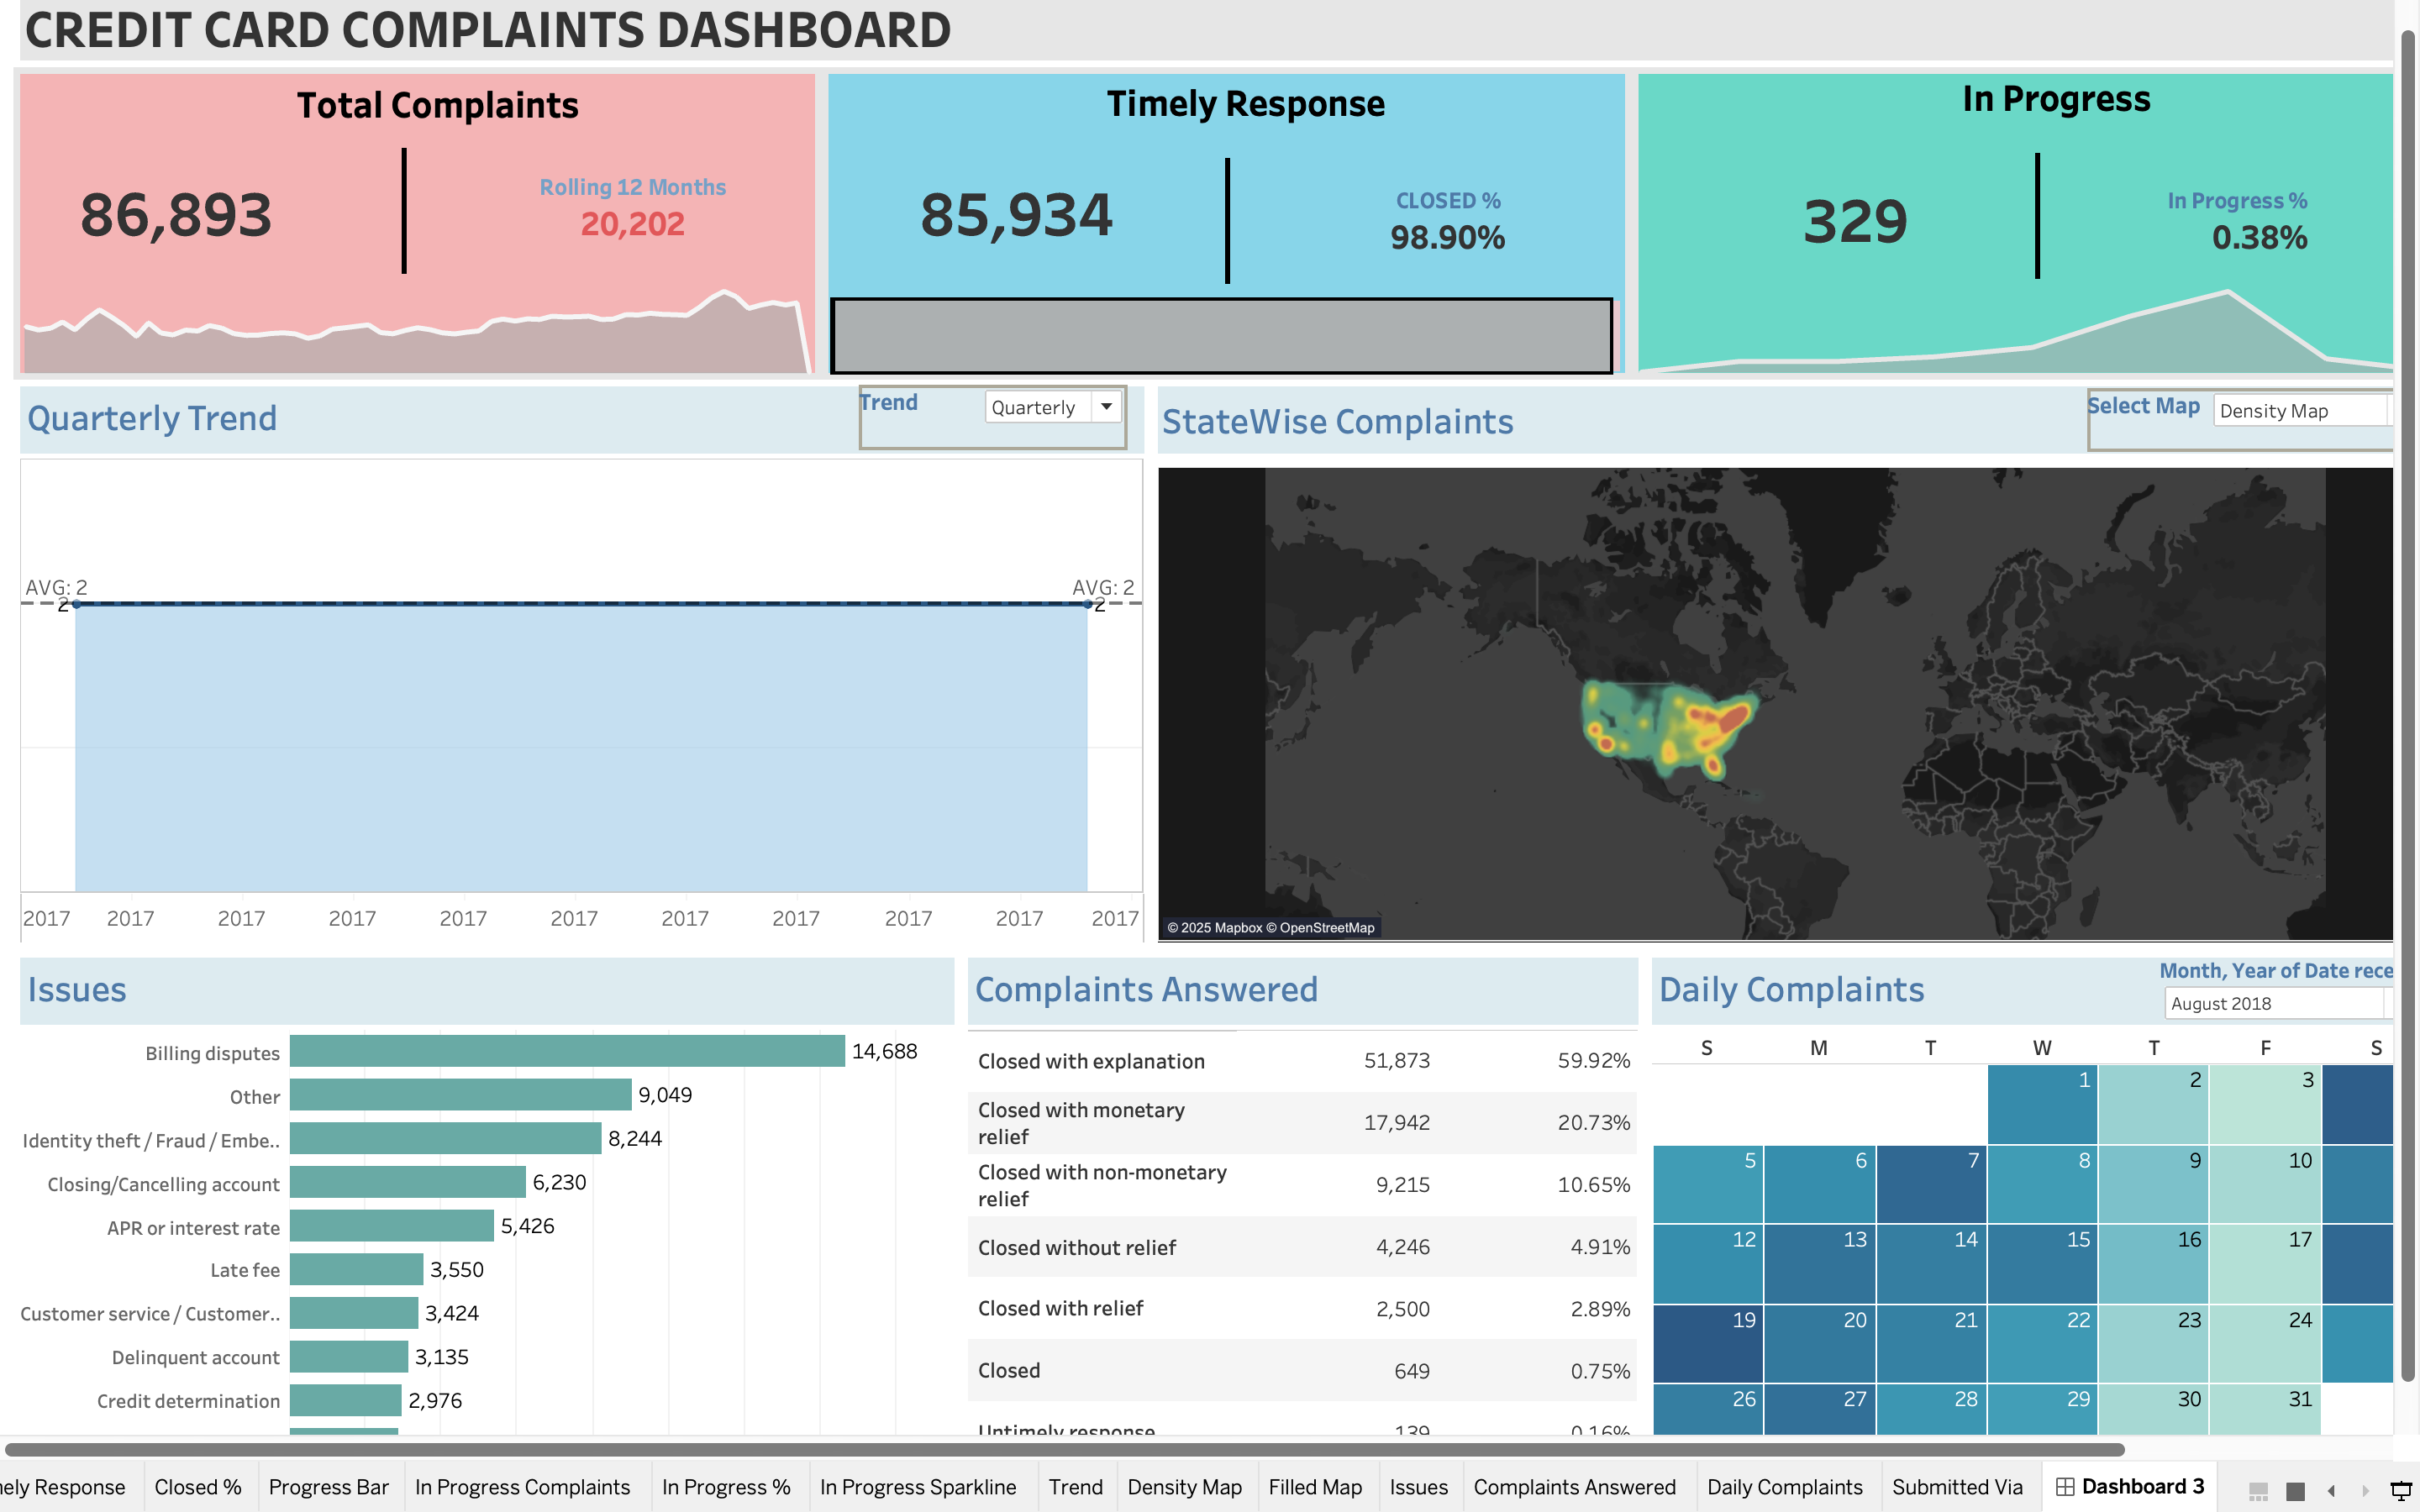

This screenshot's page, from the dashboard's own definition file:
{"tool":"tableau","page":{"name":"Dashboard 3","canvas":[1600,900],"ordinal":0},"visuals":[{"type":"title","box":[8,8,1584,48]},{"type":"blank","box":[8,56,481,186.3]},{"type":"blank","box":[489,56,481.9,186.3]},{"type":"blank","box":[970.9,56,481.9,186.3]},{"type":"text","box":[1452.9,56,139.1,26]},{"type":"text","box":[1137,59,174,30]},{"type":"text","box":[655,62,174,30]},{"type":"text","box":[174,63,174,30]},{"type":"blank","box":[1452.9,82,139.1,143]},{"type":"filter","title":"Trend","param":"[federated.0zmxp2f0zmb8yj13tfkui1nm52eq].[yr:Date received:ok]","box":[1450,88,143,42]},{"type":"worksheet","title":"Rolling 12 Month Complaints","mark":"Automatic","box":[300,103,153,74]},{"type":"blank","box":[239,104,3,75]},{"type":"blank","box":[1211,107,3,75]},{"type":"blank","box":[729,110,3,75]},{"type":"worksheet","title":"Closed %","mark":"Automatic","box":[785,111,153,74]},{"type":"worksheet","title":"In Progress %","mark":"Automatic","box":[1224,111,153,74]},{"type":"worksheet","title":"Total Complaints","mark":"Automatic","box":[26,121,158,42]},{"type":"worksheet","title":"Timely Response","mark":"Automatic","box":[526,121,158,42]},{"type":"worksheet","title":"In Progress Complaints","mark":"Automatic","box":[982,125,158,42]},{"type":"filter","title":"Trend","param":"[federated.0zmxp2f0zmb8yj13tfkui1nm52eq].[none:Company:nk]","box":[1450,144,141,43]},{"type":"worksheet","title":"In Progress Sparkline","mark":"Automatic","rows":["Calculation_1723189811968696323","Calculation_1723189811968696323"],"cols":["Date received"],"box":[951,185,516,56]},{"type":"worksheet","title":"Progress Bar","mark":"Bar","cols":["Calculation_1723189811960180738","Calculation_1403152760985337857"],"box":[494,188,493,56]},{"type":"filter","title":"Trend","param":"[federated.0zmxp2f0zmb8yj13tfkui1nm52eq].[none:State:nk]","box":[1451,205,140,40]},{"type":"blank","box":[1452.9,225,139.1,667]},{"type":"worksheet","title":"Trend","mark":"Automatic","rows":["Number of Records","Number of Records"],"cols":["Calculation_3687603679454642177"],"box":[8,242.3,677,339.7]},{"type":"text","box":[685,242.3,767.9,48]},{"type":"parameter","param":"[Parameters].[Parameter 2]","box":[511,245,160,39]},{"type":"parameter","param":"[Parameters].[Parameter 3]","box":[1242,247,200,38]},{"type":"worksheet","title":"Density Map","mark":"Heatmap","box":[685,290.3,767.9,290.7]},{"type":"worksheet","title":"Filled Map","mark":"Automatic","box":[685,581,767.9,1]},{"type":"worksheet","title":"Issues","mark":"Automatic","rows":["Issue"],"cols":["Number of Records"],"box":[8,582,563.9,310]},{"type":"worksheet","title":"Complaints Answered","mark":"Automatic","rows":["Company response to consumer"],"box":[571.9,582,407,310]},{"type":"worksheet","title":"Daily Complaints","mark":"Square","rows":["Date received"],"cols":["Date received"],"box":[978.9,582,474,310]},{"type":"filter","title":"Daily Complaints","param":"[federated.0zmxp2f0zmb8yj13tfkui1nm52eq].[my:Date received:ok]","box":[1285,585,155,39]}]}

Visuals, with their boxes on the page's 1600x900 design canvas (x1, y1, x2, y2). These are canvas units, not pixel positions in the 2420x1512 screenshot, which may show the page scaled, cropped or inside an application window:
title: left=8, top=8, right=1592, bottom=56
blank: left=8, top=56, right=489, bottom=242
blank: left=489, top=56, right=971, bottom=242
blank: left=971, top=56, right=1453, bottom=242
text: left=1453, top=56, right=1592, bottom=82
text: left=1137, top=59, right=1311, bottom=89
text: left=655, top=62, right=829, bottom=92
text: left=174, top=63, right=348, bottom=93
blank: left=1453, top=82, right=1592, bottom=225
"Trend" filter: left=1450, top=88, right=1593, bottom=130
"Rolling 12 Month Complaints" worksheet: left=300, top=103, right=453, bottom=177
blank: left=239, top=104, right=242, bottom=179
blank: left=1211, top=107, right=1214, bottom=182
blank: left=729, top=110, right=732, bottom=185
"Closed %" worksheet: left=785, top=111, right=938, bottom=185
"In Progress %" worksheet: left=1224, top=111, right=1377, bottom=185
"Total Complaints" worksheet: left=26, top=121, right=184, bottom=163
"Timely Response" worksheet: left=526, top=121, right=684, bottom=163
"In Progress Complaints" worksheet: left=982, top=125, right=1140, bottom=167
"Trend" filter: left=1450, top=144, right=1591, bottom=187
"In Progress Sparkline" worksheet: left=951, top=185, right=1467, bottom=241
"Progress Bar" worksheet (Bar marks): left=494, top=188, right=987, bottom=244
"Trend" filter: left=1451, top=205, right=1591, bottom=245
blank: left=1453, top=225, right=1592, bottom=892
"Trend" worksheet: left=8, top=242, right=685, bottom=582
text: left=685, top=242, right=1453, bottom=290
parameter: left=511, top=245, right=671, bottom=284
parameter: left=1242, top=247, right=1442, bottom=285
"Density Map" worksheet (Heatmap marks): left=685, top=290, right=1453, bottom=581
"Filled Map" worksheet: left=685, top=581, right=1453, bottom=582
"Issues" worksheet: left=8, top=582, right=572, bottom=892
"Complaints Answered" worksheet: left=572, top=582, right=979, bottom=892
"Daily Complaints" worksheet (Square marks): left=979, top=582, right=1453, bottom=892
"Daily Complaints" filter: left=1285, top=585, right=1440, bottom=624
